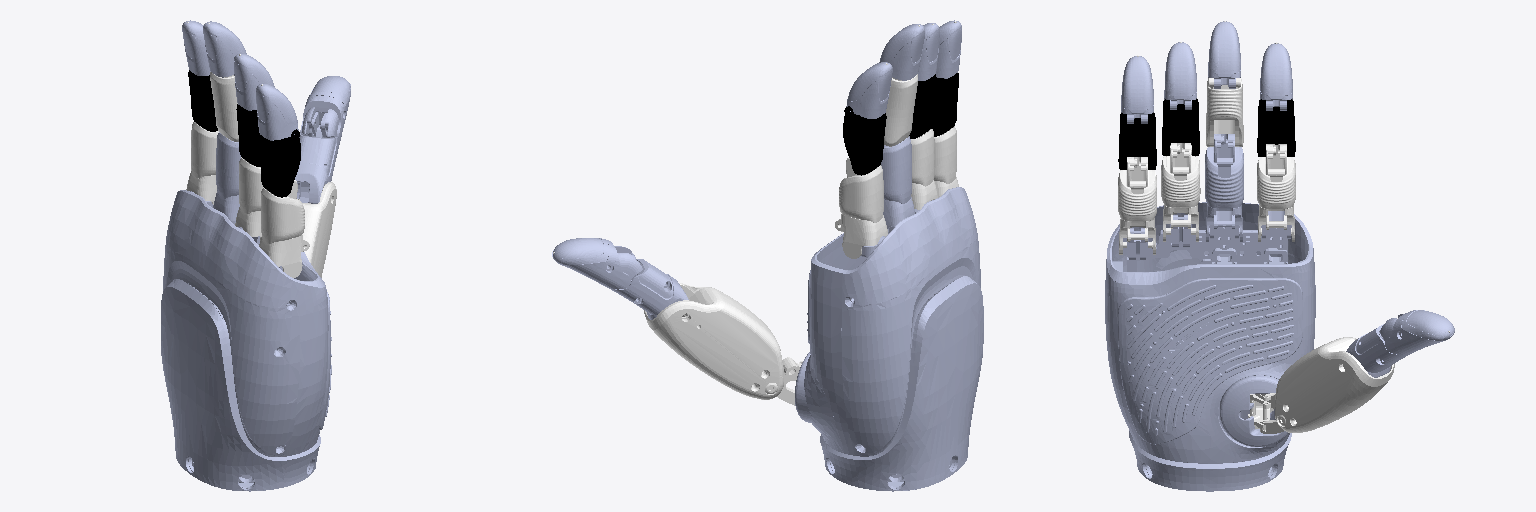
--- Facts derived from the render (not from the file) ---
Views: 3 orthographic renders of the robot side by side, from view 1: azimuth 30°, elevation 25°; view 2: azimuth 150°, elevation 25°; view 3: azimuth 270°, elevation 25°.
Robot: O12-T2-r-URDF — 25 links, 24 joints (19 revolute, 5 fixed); root link hand_base_link; default pose: every joint at zero.
Links seen in each view (by area): view 1: hand_base_link, pinky_proximal, thumb_distal, thumb_proximal, pinky_middle, thumb_metacarpals, index_proximal, middle_proximal, pinky_distal, ring_proximal, middle_distal, middle_middle (+4 smaller); view 2: hand_base_link, thumb_metacarpals, index_proximal, thumb_distal, middle_proximal, index_middle, thumb_proximal, index_distal, middle_middle, middle_distal, ring_proximal, pinky_proximal (+5 smaller); view 3: hand_base_link, thumb_metacarpals, middle_proximal, ring_proximal, pinky_proximal, index_proximal, thumb_distal, middle_middle, middle_distal, pinky_distal, index_distal, ring_distal (+5 smaller).
Boxes of the visible links, bbox=[...] form: hand_base_link: bbox=[161, 190, 331, 491]; pinky_proximal: bbox=[259, 180, 309, 277]; thumb_distal: bbox=[300, 76, 350, 142]; thumb_proximal: bbox=[295, 127, 339, 203]; pinky_middle: bbox=[259, 129, 300, 197]; thumb_metacarpals: bbox=[303, 182, 336, 277]; index_proximal: bbox=[186, 122, 218, 204]; middle_proximal: bbox=[213, 132, 242, 228]; pinky_distal: bbox=[256, 83, 298, 140]; ring_proximal: bbox=[235, 157, 262, 239]; middle_distal: bbox=[203, 21, 246, 77]; middle_middle: bbox=[210, 72, 238, 141]; hand_base_link: bbox=[795, 187, 983, 491]; thumb_metacarpals: bbox=[644, 283, 783, 399]; index_proximal: bbox=[835, 158, 887, 258]; thumb_distal: bbox=[552, 238, 642, 289]; middle_proximal: bbox=[881, 136, 914, 233]; index_middle: bbox=[843, 106, 886, 175]; thumb_proximal: bbox=[612, 259, 688, 319]; index_distal: bbox=[846, 62, 892, 118]; middle_middle: bbox=[884, 74, 917, 146]; middle_distal: bbox=[879, 24, 924, 80]; ring_proximal: bbox=[911, 129, 937, 209]; pinky_proximal: bbox=[931, 126, 958, 200]; hand_base_link: bbox=[1105, 202, 1315, 491]; thumb_metacarpals: bbox=[1275, 337, 1394, 432]; middle_proximal: bbox=[1205, 134, 1243, 241]; ring_proximal: bbox=[1161, 143, 1200, 241]; pinky_proximal: bbox=[1118, 157, 1156, 254]; index_proximal: bbox=[1257, 144, 1295, 241]; thumb_distal: bbox=[1380, 310, 1454, 355]; middle_middle: bbox=[1206, 78, 1243, 146]; middle_distal: bbox=[1208, 21, 1240, 88]; pinky_distal: bbox=[1121, 56, 1153, 123]; index_distal: bbox=[1260, 43, 1292, 110]; ring_distal: bbox=[1164, 42, 1196, 109].
Size in the robot's own frame: 0.1453 by 0.1624 by 0.2232 metres.
25 mesh visuals loaded from 25 distinct referenced files (25 binary STL).

robot.urdf — O12-T2-r-URDF:
<?xml version="1.0" encoding="utf-8"?>
<!-- This URDF was automatically created by SolidWorks to URDF Exporter! Originally created by Stephen Brawner ([email redacted]) 
     Commit Version: 1.6.0-1-g15f4949  Build Version: 1.6.7594.29634
     For more information, please see http://wiki.ros.org/sw_urdf_exporter -->
<robot
  name="O12-T2-r-URDF">
  <link
    name="hand_base_link">
    <inertial>
      <origin
        xyz="-0.00161159551039664 -5.35320731301127E-05 0.0560978412942799"
        rpy="0 0 0" />
      <mass
        value="0.114811257443678" />
      <inertia
        ixx="0.000157668014286336"
        ixy="1.23279816628476E-07"
        ixz="3.41927928857369E-06"
        iyy="8.53503031740679E-05"
        iyz="-3.29579297268574E-06"
        izz="8.65455243809675E-05" />
    </inertial>
    <visual>
      <origin
        xyz="0 0 0"
        rpy="0 0 0" />
      <geometry>
        <mesh
          filename="package://O12-T2-r-URDF/meshes/hand_base_link.STL" />
      </geometry>
      <material
        name="">
        <color
          rgba="0.792156862745098 0.819607843137255 0.933333333333333 1" />
      </material>
    </visual>
    <collision>
      <origin
        xyz="0 0 0"
        rpy="0 0 0" />
      <geometry>
        <mesh
          filename="package://O12-T2-r-URDF/meshes/hand_base_link.STL" />
      </geometry>
    </collision>
  </link>
  <link
    name="thumb_metacarpals_base1">
    <inertial>
      <origin
        xyz="0.0128313930736693 -0.000678732032779718 -6.35818794832779E-05"
        rpy="0 0 0" />
      <mass
        value="0.00393646374828629" />
      <inertia
        ixx="5.66342021103653E-07"
        ixy="2.99828694401976E-08"
        ixz="-8.530815299903E-10"
        iyy="2.92953553344946E-07"
        iyz="1.9125859446091E-08"
        izz="6.19998879375207E-07" />
    </inertial>
    <visual>
      <origin
        xyz="0 0 0"
        rpy="0 0 0" />
      <geometry>
        <mesh
          filename="package://O12-T2-r-URDF/meshes/thumb_metacarpals_base1.STL" />
      </geometry>
      <material
        name="">
        <color
          rgba="1 1 1 1" />
      </material>
    </visual>
    <collision>
      <origin
        xyz="0 0 0"
        rpy="0 0 0" />
      <geometry>
        <mesh
          filename="package://O12-T2-r-URDF/meshes/thumb_metacarpals_base1.STL" />
      </geometry>
    </collision>
  </link>
  <joint
    name="thumb_cmc_roll"
    type="revolute">
    <origin
      xyz="-0.00752105646286185 0.022277717875142 0.0402500000154359"
      rpy="0 0 0" />
    <parent
      link="hand_base_link" />
    <child
      link="thumb_metacarpals_base1" />
    <axis
      xyz="-1 0 0" />
    <limit
      lower="1"
      upper="0"
      effort="100"
      velocity="1" />
  </joint>
  <link
    name="thumb_metacarpals_base2">
    <inertial>
      <origin
        xyz="0.00581591430824 0.00635157624424623 0.00301817977794241"
        rpy="0 0 0" />
      <mass
        value="0.00171679583795965" />
      <inertia
        ixx="1.18471956476211E-07"
        ixy="-4.21491727713665E-08"
        ixz="-1.05144206441241E-08"
        iyy="1.14929858642022E-07"
        iyz="-1.74178188232578E-08"
        izz="9.67476477234771E-08" />
    </inertial>
    <visual>
      <origin
        xyz="0 0 0"
        rpy="0 0 0" />
      <geometry>
        <mesh
          filename="package://O12-T2-r-URDF/meshes/thumb_metacarpals_base2.STL" />
      </geometry>
      <material
        name="">
        <color
          rgba="1 1 1 1" />
      </material>
    </visual>
    <collision>
      <origin
        xyz="0 0 0"
        rpy="0 0 0" />
      <geometry>
        <mesh
          filename="package://O12-T2-r-URDF/meshes/thumb_metacarpals_base2.STL" />
      </geometry>
    </collision>
  </link>
  <joint
    name="thumb_cmc_yaw"
    type="revolute">
    <origin
      xyz="0.0350706488516897 0.00330139200274943 0"
      rpy="0 0 0" />
    <parent
      link="thumb_metacarpals_base1" />
    <child
      link="thumb_metacarpals_base2" />
    <axis
      xyz="0 0 -1" />
    <limit
      lower="1"
      upper="0"
      effort="100"
      velocity="1" />
  </joint>
  <link
    name="thumb_metacarpals">
    <inertial>
      <origin
        xyz="0.00385872996209731 0.000181218600500455 0.0262735833237675"
        rpy="0 0 0" />
      <mass
        value="0.0170904831764455" />
      <inertia
        ixx="6.63118284082087E-06"
        ixy="-8.89147944008133E-09"
        ixz="-3.40233763108897E-07"
        iyy="8.0387092642591E-06"
        iyz="1.37099372194423E-08"
        izz="1.83070430583757E-06" />
    </inertial>
    <visual>
      <origin
        xyz="0 0 0"
        rpy="0 0 0" />
      <geometry>
        <mesh
          filename="package://O12-T2-r-URDF/meshes/thumb_metacarpals.STL" />
      </geometry>
      <material
        name="">
        <color
          rgba="1 1 1 1" />
      </material>
    </visual>
    <collision>
      <origin
        xyz="0 0 0"
        rpy="0 0 0" />
      <geometry>
        <mesh
          filename="package://O12-T2-r-URDF/meshes/thumb_metacarpals.STL" />
      </geometry>
    </collision>
  </link>
  <joint
    name="thumb_cmc_pitch"
    type="revolute">
    <origin
      xyz="0.0161297170352622 0.0163048601861332 0.00686106204760886"
      rpy="0 -0.925290064543775 -2.35079106633742" />
    <parent
      link="thumb_metacarpals_base2" />
    <child
      link="thumb_metacarpals" />
    <axis
      xyz="0 -1 0" />
    <limit
      lower="1"
      upper="0"
      effort="100"
      velocity="1" />
  </joint>
  <link
    name="thumb_proximal">
    <inertial>
      <origin
        xyz="-0.00245377652568593 0.00186599902568424 0.0134436674550769"
        rpy="0 0 0" />
      <mass
        value="0.00522967724458737" />
      <inertia
        ixx="4.48792018896274E-07"
        ixy="-9.70789943838628E-10"
        ixz="-7.98090430081374E-08"
        iyy="6.21158736091837E-07"
        iyz="-3.64664957781819E-09"
        izz="2.2512440353929E-07" />
    </inertial>
    <visual>
      <origin
        xyz="0 0 0"
        rpy="0 0 0" />
      <geometry>
        <mesh
          filename="package://O12-T2-r-URDF/meshes/thumb_proximal.STL" />
      </geometry>
      <material
        name="">
        <color
          rgba="0.792156862745098 0.819607843137255 0.933333333333333 1" />
      </material>
    </visual>
    <collision>
      <origin
        xyz="0 0 0"
        rpy="0 0 0" />
      <geometry>
        <mesh
          filename="package://O12-T2-r-URDF/meshes/thumb_proximal.STL" />
      </geometry>
    </collision>
  </link>
  <joint
    name="thumb_mcp"
    type="revolute">
    <origin
      xyz="0.00816453404663862 -0.00144999989303646 0.0556339310817644"
      rpy="0 0 0" />
    <parent
      link="thumb_metacarpals" />
    <child
      link="thumb_proximal" />
    <axis
      xyz="0 -1 0" />
    <limit
      lower="1"
      upper="0"
      effort="100"
      velocity="1" />
  </joint>
  <link
    name="thumb_distal">
    <inertial>
      <origin
        xyz="0.000428123853169746 2.07014406468898E-05 0.00928509405558531"
        rpy="0 0 0" />
      <mass
        value="0.00521800975168049" />
      <inertia
        ixx="3.59710358459503E-07"
        ixy="-7.03000203959671E-11"
        ixz="7.69465079824501E-08"
        iyy="3.45473494359168E-07"
        iyz="3.0696210185884E-10"
        izz="2.64028535580618E-07" />
    </inertial>
    <visual>
      <origin
        xyz="0 0 0"
        rpy="0 0 0" />
      <geometry>
        <mesh
          filename="package://O12-T2-r-URDF/meshes/thumb_distal.STL" />
      </geometry>
      <material
        name="">
        <color
          rgba="0.796078431372549 0.823529411764706 0.937254901960784 1" />
      </material>
    </visual>
    <collision>
      <origin
        xyz="0 0 0"
        rpy="0 0 0" />
      <geometry>
        <mesh
          filename="package://O12-T2-r-URDF/meshes/thumb_distal.STL" />
      </geometry>
    </collision>
  </link>
  <joint
    name="thumb_ip"
    type="revolute">
    <origin
      xyz="-0.00154750718363847 0.00149999983118392 0.0345280593371561"
      rpy="0 0 0" />
    <parent
      link="thumb_proximal" />
    <child
      link="thumb_distal" />
    <axis
      xyz="0 -1 0" />
    <limit
      lower="1"
      upper="0"
      effort="100"
      velocity="1" />
  </joint>
  <link
    name="thumb_Virtual_Point">
    <inertial>
      <origin
        xyz="0.000233035989326169 5.00064540250775E-05 4.67970036186205E-05"
        rpy="0 0 0" />
      <mass
        value="5.23598775598299E-07" />
      <inertia
        ixx="5.23598775598299E-14"
        ixy="-6.44905165041911E-31"
        ixz="3.15544362088405E-30"
        iyy="5.23598775598299E-14"
        iyz="-2.42380465218649E-30"
        izz="5.23598775598299E-14" />
    </inertial>
    <visual>
      <origin
        xyz="0 0 0"
        rpy="0 0 0" />
      <geometry>
        <mesh
          filename="package://O12-T2-r-URDF/meshes/thumb_Virtual_Point.STL" />
      </geometry>
      <material
        name="">
        <color
          rgba="1 1 1 1" />
      </material>
    </visual>
    <collision>
      <origin
        xyz="0 0 0"
        rpy="0 0 0" />
      <geometry>
        <mesh
          filename="package://O12-T2-r-URDF/meshes/thumb_Virtual_Point.STL" />
      </geometry>
    </collision>
  </link>
  <joint
    name="thumb_Virtual_Point-none"
    type="fixed">
    <origin
      xyz="-0.00661702686299999 -4.99999381474688E-05 0.0315676558844293"
      rpy="0 0 0" />
    <parent
      link="thumb_distal" />
    <child
      link="thumb_Virtual_Point" />
    <axis
      xyz="0 0 0" />
  </joint>
  <link
    name="index_metacarpals">
    <inertial>
      <origin
        xyz="0.00148754096391645 -5.49503463911916E-09 0.0020193309982513"
        rpy="0 0 0" />
      <mass
        value="0.00107972483821526" />
      <inertia
        ixx="3.55597226363628E-08"
        ixy="-9.48374825574947E-16"
        ixz="-2.89707226372672E-09"
        iyy="2.11264180987165E-08"
        iyz="-1.72178782546436E-14"
        izz="3.62864110573929E-08" />
    </inertial>
    <visual>
      <origin
        xyz="0 0 0"
        rpy="0 0 0" />
      <geometry>
        <mesh
          filename="package://O12-T2-r-URDF/meshes/index_metacarpals.STL" />
      </geometry>
      <material
        name="">
        <color
          rgba="0.792156862745098 0.819607843137255 0.933333333333333 1" />
      </material>
    </visual>
    <collision>
      <origin
        xyz="0 0 0"
        rpy="0 0 0" />
      <geometry>
        <mesh
          filename="package://O12-T2-r-URDF/meshes/index_metacarpals.STL" />
      </geometry>
    </collision>
  </link>
  <joint
    name="index_mcp_roll"
    type="revolute">
    <origin
      xyz="-0.00719999999308767 0.030778354272632 0.119355702147758"
      rpy="0 0 0" />
    <parent
      link="hand_base_link" />
    <child
      link="index_metacarpals" />
    <axis
      xyz="1 0 0" />
    <limit
      lower="1"
      upper="0"
      effort="100"
      velocity="1" />
  </joint>
  <link
    name="index_proximal">
    <inertial>
      <origin
        xyz="-0.0011507020809311 -2.08334184405232E-05 0.0212647300382613"
        rpy="0 0 0" />
      <mass
        value="0.0047795679529425" />
      <inertia
        ixx="5.44832577804324E-07"
        ixy="-9.05372082061964E-11"
        ixz="1.65895588180974E-08"
        iyy="5.41640689587983E-07"
        iyz="-2.49910298343805E-10"
        izz="1.75594690124638E-07" />
    </inertial>
    <visual>
      <origin
        xyz="0 0 0"
        rpy="0 0 0" />
      <geometry>
        <mesh
          filename="package://O12-T2-r-URDF/meshes/index_proximal.STL" />
      </geometry>
      <material
        name="">
        <color
          rgba="1 1 1 1" />
      </material>
    </visual>
    <collision>
      <origin
        xyz="0 0 0"
        rpy="0 0 0" />
      <geometry>
        <mesh
          filename="package://O12-T2-r-URDF/meshes/index_proximal.STL" />
      </geometry>
    </collision>
  </link>
  <joint
    name="index_mcp_pitch"
    type="revolute">
    <origin
      xyz="0.00736980261911774 0 0"
      rpy="0 0 0" />
    <parent
      link="index_metacarpals" />
    <child
      link="index_proximal" />
    <axis
      xyz="0 1 0" />
    <limit
      lower="1"
      upper="0"
      effort="100"
      velocity="1" />
  </joint>
  <link
    name="index_middle">
    <inertial>
      <origin
        xyz="0.000582798950647259 -1.66623930000845E-05 0.0134419047168478"
        rpy="0 0 0" />
      <mass
        value="0.00270775195657711" />
      <inertia
        ixx="2.25567812011315E-07"
        ixy="4.76559542406226E-12"
        ixz="5.19477924230876E-09"
        iyy="1.61875481956388E-07"
        iyz="-8.95811277153765E-12"
        izz="1.1790038033522E-07" />
    </inertial>
    <visual>
      <origin
        xyz="0 0 0"
        rpy="0 0 0" />
      <geometry>
        <mesh
          filename="package://O12-T2-r-URDF/meshes/index_middle.STL" />
      </geometry>
      <material
        name="">
        <color
          rgba="0 0 0 1" />
      </material>
    </visual>
    <collision>
      <origin
        xyz="0 0 0"
        rpy="0 0 0" />
      <geometry>
        <mesh
          filename="package://O12-T2-r-URDF/meshes/index_middle.STL" />
      </geometry>
    </collision>
  </link>
  <joint
    name="index_pip"
    type="revolute">
    <origin
      xyz="-0.00305282449335901 0 0.0399071116817979"
      rpy="0 0 0" />
    <parent
      link="index_proximal" />
    <child
      link="index_middle" />
    <axis
      xyz="0 1 0" />
    <limit
      lower="1"
      upper="0"
      effort="100"
      velocity="1" />
  </joint>
  <link
    name="index_distal">
    <inertial>
      <origin
        xyz="-0.00721640324456499 -3.10526118675776E-05 0.00510323974876059"
        rpy="0 0 0" />
      <mass
        value="0.00258259704107596" />
      <inertia
        ixx="1.30227806624487E-07"
        ixy="1.19687371568577E-10"
        ixz="4.12783102703161E-08"
        iyy="1.36472647538679E-07"
        iyz="-3.14466372715904E-10"
        izz="1.01017185875891E-07" />
    </inertial>
    <visual>
      <origin
        xyz="0 0 0"
        rpy="0 0 0" />
      <geometry>
        <mesh
          filename="package://O12-T2-r-URDF/meshes/index_distal.STL" />
      </geometry>
      <material
        name="">
        <color
          rgba="0.792156862745098 0.819607843137255 0.933333333333333 1" />
      </material>
    </visual>
    <collision>
      <origin
        xyz="0 0 0"
        rpy="0 0 0" />
      <geometry>
        <mesh
          filename="package://O12-T2-r-URDF/meshes/index_distal.STL" />
      </geometry>
    </collision>
  </link>
  <joint
    name="index_dip"
    type="revolute">
    <origin
      xyz="0.00530686089658646 0 0.0265922869892696"
      rpy="0 0 0" />
    <parent
      link="index_middle" />
    <child
      link="index_distal" />
    <axis
      xyz="0 1 0" />
    <limit
      lower="1"
      upper="0"
      effort="100"
      velocity="1" />
  </joint>
  <link
    name="index_Virtual_Point">
    <inertial>
      <origin
        xyz="2.59494682686157E-12 1.08447278934776E-12 -2.77555756156289E-17"
        rpy="0 0 0" />
      <mass
        value="5.23598775598299E-07" />
      <inertia
        ixx="5.23598775598299E-14"
        ixy="1.25598008635388E-40"
        ixz="9.28286640364503E-41"
        iyy="5.23598775598299E-14"
        iyz="1.09865815136825E-30"
        izz="5.23598775598299E-14" />
    </inertial>
    <visual>
      <origin
        xyz="0 0 0"
        rpy="0 0 0" />
      <geometry>
        <mesh
          filename="package://O12-T2-r-URDF/meshes/index_Virtual_Point.STL" />
      </geometry>
      <material
        name="">
        <color
          rgba="1 1 1 1" />
      </material>
    </visual>
    <collision>
      <origin
        xyz="0 0 0"
        rpy="0 0 0" />
      <geometry>
        <mesh
          filename="package://O12-T2-r-URDF/meshes/index_Virtual_Point.STL" />
      </geometry>
    </collision>
  </link>
  <joint
    name="index_Virtual_Point-none"
    type="fixed">
    <origin
      xyz="-0.0152816370939128 0 0.0240371666710466"
      rpy="0 0 0" />
    <parent
      link="index_distal" />
    <child
      link="index_Virtual_Point" />
    <axis
      xyz="0 0 0" />
  </joint>
  <link
    name="middle_metacarpals">
    <inertial>
      <origin
        xyz="0.00148754096057072 3.28886513297367E-06 0.00201932832117664"
        rpy="0 0 0" />
      <mass
        value="0.00107972484789827" />
      <inertia
        ixx="3.55597227804492E-08"
        ixy="-4.72744773072391E-12"
        ixz="-2.89706838785042E-09"
        iyy="2.11264584194102E-08"
        iyz="2.47147540874508E-11"
        izz="3.62863711473445E-08" />
    </inertial>
    <visual>
      <origin
        xyz="0 0 0"
        rpy="0 0 0" />
      <geometry>
        <mesh
          filename="package://O12-T2-r-URDF/meshes/middle_metacarpals.STL" />
      </geometry>
      <material
        name="">
        <color
          rgba="0.792156862745098 0.819607843137255 0.933333333333333 1" />
      </material>
    </visual>
    <collision>
      <origin
        xyz="0 0 0"
        rpy="0 0 0" />
      <geometry>
        <mesh
          filename="package://O12-T2-r-URDF/meshes/middle_metacarpals.STL" />
      </geometry>
    </collision>
  </link>
  <joint
    name="middle_mcp_roll"
    type="revolute">
    <origin
      xyz="-0.00720002856790489 0.00666067883725946 0.119355672566023"
      rpy="0 0 0" />
    <parent
      link="hand_base_link" />
    <child
      link="middle_metacarpals" />
    <axis
      xyz="1 0 0" />
    <limit
      lower="1"
      upper="0"
      effort="100"
      velocity="1" />
  </joint>
  <link
    name="middle_proximal">
    <inertial>
      <origin
        xyz="-0.00165985032192234 6.30950482593991E-05 0.0236220231228174"
        rpy="0 0 0" />
      <mass
        value="0.0055122415444485" />
      <inertia
        ixx="7.79066281858944E-07"
        ixy="4.80058757068503E-11"
        ixz="3.22743653411331E-08"
        iyy="7.60600012773068E-07"
        iyz="-1.49750195774982E-09"
        izz="2.05882994190045E-07" />
    </inertial>
    <visual>
      <origin
        xyz="0 0 0"
        rpy="0 0 0" />
      <geometry>
        <mesh
          filename="package://O12-T2-r-URDF/meshes/middle_proximal.STL" />
      </geometry>
      <material
        name="">
        <color
          rgba="0.792156862745098 0.819607843137255 0.933333333333333 1" />
      </material>
    </visual>
    <collision>
      <origin
        xyz="0 0 0"
        rpy="0 0 0" />
      <geometry>
        <mesh
          filename="package://O12-T2-r-URDF/meshes/middle_proximal.STL" />
      </geometry>
    </collision>
  </link>
  <joint
    name="middle_mcp_pitch"
    type="revolute">
    <origin
      xyz="0.00736980261904721 0 0"
      rpy="0 0 0" />
    <parent
      link="middle_metacarpals" />
    <child
      link="middle_proximal" />
    <axis
      xyz="0 0.999998669223613 -0.00163142606439766" />
    <limit
      lower="1"
      upper="0"
      effort="100"
      velocity="1" />
  </joint>
  <link
    name="middle_middle">
    <inertial>
      <origin
        xyz="-0.000230368247225323 5.52667321999743E-05 0.01619749717231"
        rpy="0 0 0" />
      <mass
        value="0.00314204808883818" />
      <inertia
        ixx="3.20092678111392E-07"
        ixy="-1.08641100687566E-11"
        ixz="1.53074298945201E-08"
        iyy="2.47015765909473E-07"
        iyz="-1.53970978537133E-10"
        izz="1.35843361683385E-07" />
    </inertial>
    <visual>
      <origin
        xyz="0 0 0"
        rpy="0 0 0" />
      <geometry>
        <mesh
          filename="package://O12-T2-r-URDF/meshes/middle_middle.STL" />
      </geometry>
      <material
        name="">
        <color
          rgba="1 1 1 1" />
      </material>
    </visual>
    <collision>
      <origin
        xyz="0 0 0"
        rpy="0 0 0" />
      <geometry>
        <mesh
          filename="package://O12-T2-r-URDF/meshes/middle_middle.STL" />
      </geometry>
    </collision>
  </link>
  <joint
    name="middle_pip"
    type="revolute">
    <origin
      xyz="-0.00414396862448903 7.3133119114277E-05 0.0448276641772237"
      rpy="0 0 0" />
    <parent
      link="middle_proximal" />
    <child
      link="middle_middle" />
    <axis
      xyz="0 0.999998669223521 -0.00163142612039514" />
    <limit
      lower="1"
      upper="0"
      effort="100"
      velocity="1" />
  </joint>
  <link
    name="middle_distal">
    <inertial>
      <origin
        xyz="-0.00724758468028898 -2.27990144281778E-05 0.00505893372906671"
        rpy="0 0 0" />
      <mass
        value="0.00258260294313138" />
      <inertia
        ixx="1.29720848656837E-07"
        ixy="1.89243898979081E-10"
        ixz="4.14544297269986E-08"
        iyy="1.36472188916914E-07"
        iyz="-3.70737066885829E-10"
        izz="1.01526072268206E-07" />
    </inertial>
    <visual>
      <origin
        xyz="0 0 0"
        rpy="0 0 0" />
      <geometry>
        <mesh
          filename="package://O12-T2-r-URDF/meshes/middle_distal.STL" />
      </geometry>
      <material
        name="">
        <color
          rgba="0.792156862745098 0.819607843137255 0.933333333333333 1" />
      </material>
    </visual>
    <collision>
      <origin
        xyz="0 0 0"
        rpy="0 0 0" />
      <geometry>
        <mesh
          filename="package://O12-T2-r-URDF/meshes/middle_distal.STL" />
      </geometry>
    </collision>
  </link>
  <joint
    name="middle_dip"
    type="revolute">
    <origin
      xyz="0.00362953932909984 5.15731342090597E-05 0.031612259069028"
      rpy="0 0 0" />
    <parent
      link="middle_middle" />
    <child
      link="middle_distal" />
    <axis
      xyz="0 0.99999866922354 -0.0016314261089444" />
    <limit
      lower="1"
      upper="0"
      effort="100"
      velocity="1" />
  </joint>
  <link
    name="middle_Virtual_Point">
    <inertial>
      <origin
        xyz="4.81580053612873E-13 1.33037331151442E-12 -6.74460487459783E-15"
        rpy="0 0 0" />
      <mass
        value="5.23598775598299E-07" />
      <inertia
        ixx="5.23598775598299E-14"
        ixy="-4.90325426925644E-42"
        ixz="1.17662710661929E-40"
        iyy="5.23598775598299E-14"
        iyz="1.29845462914076E-30"
        izz="5.23598775598299E-14" />
    </inertial>
    <visual>
      <origin
        xyz="0 0 0"
        rpy="0 0 0" />
      <geometry>
        <mesh
          filename="package://O12-T2-r-URDF/meshes/middle_Virtual_Point.STL" />
      </geometry>
      <material
        name="">
        <color
          rgba="1 1 1 1" />
      </material>
    </visual>
    <collision>
      <origin
        xyz="0 0 0"
        rpy="0 0 0" />
      <geometry>
        <mesh
          filename="package://O12-T2-r-URDF/meshes/middle_Virtual_Point.STL" />
      </geometry>
    </collision>
  </link>
  <joint
    name="middle_Virtual_Point-none"
    type="fixed">
    <origin
      xyz="-0.0154287963750709 3.90611932357243E-05 0.0239429432292471"
      rpy="0 0 0" />
    <parent
      link="middle_distal" />
    <child
      link="middle_Virtual_Point" />
    <axis
      xyz="0 0 0" />
  </joint>
  <link
    name="ring_proximal">
    <inertial>
      <origin
        xyz="-0.00161802170047008 -2.08220096852268E-05 0.0212342177709951"
        rpy="0 0 0" />
      <mass
        value="0.0047795328266326" />
      <inertia
        ixx="5.43923252152409E-07"
        ixy="-8.48896522637981E-11"
        ixz="2.4689478865027E-08"
        iyy="5.41640127982143E-07"
        iyz="-2.5218290048469E-10"
        izz="1.76501748993068E-07" />
    </inertial>
    <visual>
      <origin
        xyz="0 0 0"
        rpy="0 0 0" />
      <geometry>
        <mesh
          filename="package://O12-T2-r-URDF/meshes/ring_proximal.STL" />
      </geometry>
      <material
        name="">
        <color
          rgba="1 1 1 1" />
      </material>
    </visual>
    <collision>
      <origin
        xyz="0 0 0"
        rpy="0 0 0" />
      <geometry>
        <mesh
          filename="package://O12-T2-r-URDF/meshes/ring_proximal.STL" />
      </geometry>
    </collision>
  </link>
  <joint
    name="ring_mcp_pitch"
    type="revolute">
    <origin
      xyz="0.0001598 -0.013573 0.11972"
      rpy="0 0 0" />
    <parent
      link="hand_base_link" />
    <child
      link="ring_proximal" />
    <axis
      xyz="0 0 0" />
    <limit
      lower="0"
      upper="1"
      effort="100"
      velocity="1" />
  </joint>
  <link
    name="ring_middle">
    <inertial>
      <origin
        xyz="0.000940340714750308 -1.66667751162405E-05 0.0134216382614548"
        rpy="0 0 0" />
      <mass
        value="0.0027077533496335" />
      <inertia
        ixx="2.25767846748625E-07"
        ixy="4.61360531413437E-12"
        ixz="2.32301202429608E-09"
        iyy="1.61875511170868E-07"
        iyz="-9.05860342855209E-12"
        izz="1.17700137222491E-07" />
    </inertial>
    <visual>
      <origin
        xyz="0 0 0"
        rpy="0 0 0" />
      <geometry>
        <mesh
          filename="package://O12-T2-r-URDF/meshes/ring_middle.STL" />
      </geometry>
      <material
        name="">
        <color
          rgba="0 0 0 1" />
      </material>
    </visual>
    <collision>
      <origin
        xyz="0 0 0"
        rpy="0 0 0" />
      <geometry>
        <mesh
          filename="package://O12-T2-r-URDF/meshes/ring_middle.STL" />
      </geometry>
    </collision>
  </link>
  <joint
    name="ring_pip"
    type="revolute">
    <origin
      xyz="-0.0039295 0 0.03983"
      rpy="0 0 0" />
    <parent
      link="ring_proximal" />
    <child
      link="ring_middle" />
    <axis
      xyz="0 1 0" />
    <limit
      lower="1"
      upper="0"
      effort="100"
      velocity="1" />
  </joint>
  <link
    name="ring_distal">
    <inertial>
      <origin
        xyz="-0.00679183129010172 -3.1051267307786E-05 0.00565592901618503"
        rpy="0 0 0" />
      <mass
        value="0.00258259127175773" />
      <inertia
        ixx="1.36530380213342E-07"
        ixy="9.44469863763946E-11"
        ixz="3.84707548646242E-08"
        iyy="1.36471612117152E-07"
        iyz="-3.22664356287902E-10"
        izz="9.47134934031493E-08" />
    </inertial>
    <visual>
      <origin
        xyz="0 0 0"
        rpy="0 0 0" />
      <geometry>
        <mesh
          filename="package://O12-T2-r-URDF/meshes/ring_distal.STL" />
      </geometry>
      <material
        name="">
        <color
          rgba="0.792156862745098 0.819607843137255 0.933333333333333 1" />
      </material>
    </visual>
    <collision>
      <origin
        xyz="0 0 0"
        rpy="0 0 0" />
      <geometry>
        <mesh
          filename="package://O12-T2-r-URDF/meshes/ring_distal.STL" />
      </geometry>
    </collision>
  </link>
  <joint
    name="ring_dip"
    type="revolute">
    <origin
      xyz="0.00601275714854613 0 0.0264415298059948"
      rpy="0 0 0" />
    <parent
      link="ring_middle" />
    <child
      link="ring_distal" />
    <axis
      xyz="0 1 0" />
    <limit
      lower="1"
      upper="0"
      effort="100"
      velocity="1" />
  </joint>
  <link
    name="ring_Virtual_Point">
    <inertial>
      <origin
        xyz="-1.13526896217131E-12 9.35964847292858E-13 5.27355936696949E-16"
        rpy="0 0 0" />
      <mass
        value="5.23598775598299E-07" />
      <inertia
        ixx="5.23598775598299E-14"
        ixy="1.58205846501508E-40"
        ixz="1.56203013032883E-40"
        iyy="5.23598775598299E-14"
        iyz="1.85037170770859E-30"
        izz="5.23598775598299E-14" />
    </inertial>
    <visual>
      <origin
        xyz="0 0 0"
        rpy="0 0 0" />
      <geometry>
        <mesh
          filename="package://O12-T2-r-URDF/meshes/ring_Virtual_Point.STL" />
      </geometry>
      <material
        name="">
        <color
          rgba="1 1 1 1" />
      </material>
    </visual>
    <collision>
      <origin
        xyz="0 0 0"
        rpy="0 0 0" />
      <geometry>
        <mesh
          filename="package://O12-T2-r-URDF/meshes/ring_Virtual_Point.STL" />
      </geometry>
    </collision>
  </link>
  <joint
    name="ring_Virtual_Point-none"
    type="fixed">
    <origin
      xyz="-0.01334 0 0.025167"
      rpy="0 0 0" />
    <parent
      link="ring_distal" />
    <child
      link="ring_Virtual_Point" />
    <axis
      xyz="0 0 0" />
  </joint>
  <link
    name="pinky_proximal">
    <inertial>
      <origin
        xyz="-0.0016180221168521 -2.08215074695289E-05 0.0212342179851402"
        rpy="0 0 0" />
      <mass
        value="0.00477953323340541" />
      <inertia
        ixx="5.43923274544673E-07"
        ixy="-8.48863445397533E-11"
        ixz="2.46894910332365E-08"
        iyy="5.41640168354855E-07"
        iyz="-2.52187730642466E-10"
        izz="1.7650175778066E-07" />
    </inertial>
    <visual>
      <origin
        xyz="0 0 0"
        rpy="0 0 0" />
      <geometry>
        <mesh
          filename="package://O12-T2-r-URDF/meshes/pinky_proximal.STL" />
      </geometry>
      <material
        name="">
        <color
          rgba="1 1 1 1" />
      </material>
    </visual>
    <collision>
      <origin
        xyz="0 0 0"
        rpy="0 0 0" />
      <geometry>
        <mesh
          filename="package://O12-T2-r-URDF/meshes/pinky_proximal.STL" />
      </geometry>
    </collision>
  </link>
  <joint
    name="pinky_mcp_pitch"
    type="revolute">
    <origin
      xyz="0.000159802654372855 -0.0336303181952511 0.11271621059493"
      rpy="0 0 0" />
    <parent
      link="hand_base_link" />
    <child
      link="pinky_proximal" />
    <axis
      xyz="0 1 0" />
    <limit
      lower="1"
      upper="0"
      effort="100"
      velocity="1" />
  </joint>
  <link
    name="pinky_middle">
    <inertial>
      <origin
        xyz="0.000940340979638598 -1.66665156724755E-05 0.0134216381434371"
        rpy="0 0 0" />
      <mass
        value="0.00270775345292578" />
      <inertia
        ixx="2.25767855959524E-07"
        ixy="4.61316580602277E-12"
        ixz="2.32301150942084E-09"
        iyy="1.61875516933061E-07"
        iyz="-9.05509549786009E-12"
        izz="1.17700140839825E-07" />
    </inertial>
    <visual>
      <origin
        xyz="0 0 0"
        rpy="0 0 0" />
      <geometry>
        <mesh
          filename="package://O12-T2-r-URDF/meshes/pinky_middle.STL" />
      </geometry>
      <material
        name="">
        <color
          rgba="0 0 0 1" />
      </material>
    </visual>
    <collision>
      <origin
        xyz="0 0 0"
        rpy="0 0 0" />
      <geometry>
        <mesh
          filename="package://O12-T2-r-URDF/meshes/pinky_middle.STL" />
      </geometry>
    </collision>
  </link>
  <joint
    name="pinky_pip"
    type="revolute">
    <origin
      xyz="-0.00392950397727024 0 0.0398303439412377"
      rpy="0 0 0" />
    <parent
      link="pinky_proximal" />
    <child
      link="pinky_middle" />
    <axis
      xyz="0 1 0" />
    <limit
      lower="1"
      upper="0"
      effort="100"
      velocity="1" />
  </joint>
  <link
    name="pinky_distal">
    <inertial>
      <origin
        xyz="-0.00679190409450586 -3.10511081597076E-05 0.00565584201307923"
        rpy="0 0 0" />
      <mass
        value="0.00258259141809727" />
      <inertia
        ixx="1.36529403216541E-07"
        ixy="9.44507918542087E-11"
        ixz="3.84712982116646E-08"
        iyy="1.36471628325979E-07"
        iyz="-3.22662637208023E-10"
        izz="9.47144825482917E-08" />
    </inertial>
    <visual>
      <origin
        xyz="0 0 0"
        rpy="0 0 0" />
      <geometry>
        <mesh
          filename="package://O12-T2-r-URDF/meshes/pinky_distal.STL" />
      </geometry>
      <material
        name="">
        <color
          rgba="0.792156862745098 0.819607843137255 0.933333333333333 1" />
      </material>
    </visual>
    <collision>
      <origin
        xyz="0 0 0"
        rpy="0 0 0" />
      <geometry>
        <mesh
          filename="package://O12-T2-r-URDF/meshes/pinky_distal.STL" />
      </geometry>
    </collision>
  </link>
  <joint
    name="pinky_dip"
    type="revolute">
    <origin
      xyz="0.00601270306428537 0 0.0264416319816371"
      rpy="0 0 0" />
    <parent
      link="pinky_middle" />
    <child
      link="pinky_distal" />
    <axis
      xyz="0 1 0" />
    <limit
      lower="1"
      upper="0"
      effort="100"
      velocity="1" />
  </joint>
  <link
    name="pinky_Virtual_Point">
    <inertial>
      <origin
        xyz="-2.83552521740393E-12 9.35987398698046E-13 8.32667268468867E-17"
        rpy="0 0 0" />
      <mass
        value="5.23598775598299E-07" />
      <inertia
        ixx="5.23598775598299E-14"
        ixy="3.70623385375214E-40"
        ixz="1.56278809626202E-40"
        iyy="5.23598775598299E-14"
        iyz="1.85037170770859E-30"
        izz="5.23598775598299E-14" />
    </inertial>
    <visual>
      <origin
        xyz="0 0 0"
        rpy="0 0 0" />
      <geometry>
        <mesh
          filename="package://O12-T2-r-URDF/meshes/pinky_Virtual_Point.STL" />
      </geometry>
      <material
        name="">
        <color
          rgba="1 1 1 1" />
      </material>
    </visual>
    <collision>
      <origin
        xyz="0 0 0"
        rpy="0 0 0" />
      <geometry>
        <mesh
          filename="package://O12-T2-r-URDF/meshes/pinky_Virtual_Point.STL" />
      </geometry>
    </collision>
  </link>
  <joint
    name="pinky_Virtual_Point-none"
    type="fixed">
    <origin
      xyz="-0.0133404537520391 0 0.0251663685805378"
      rpy="0 0 0" />
    <parent
      link="pinky_distal" />
    <child
      link="pinky_Virtual_Point" />
    <axis
      xyz="0 0 0" />
  </joint>
</robot>
